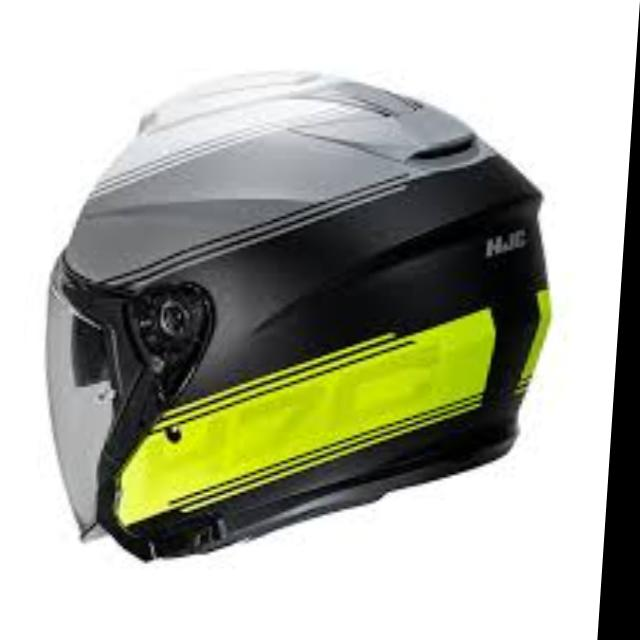motorcycle-helmets: (46, 74, 548, 558)
